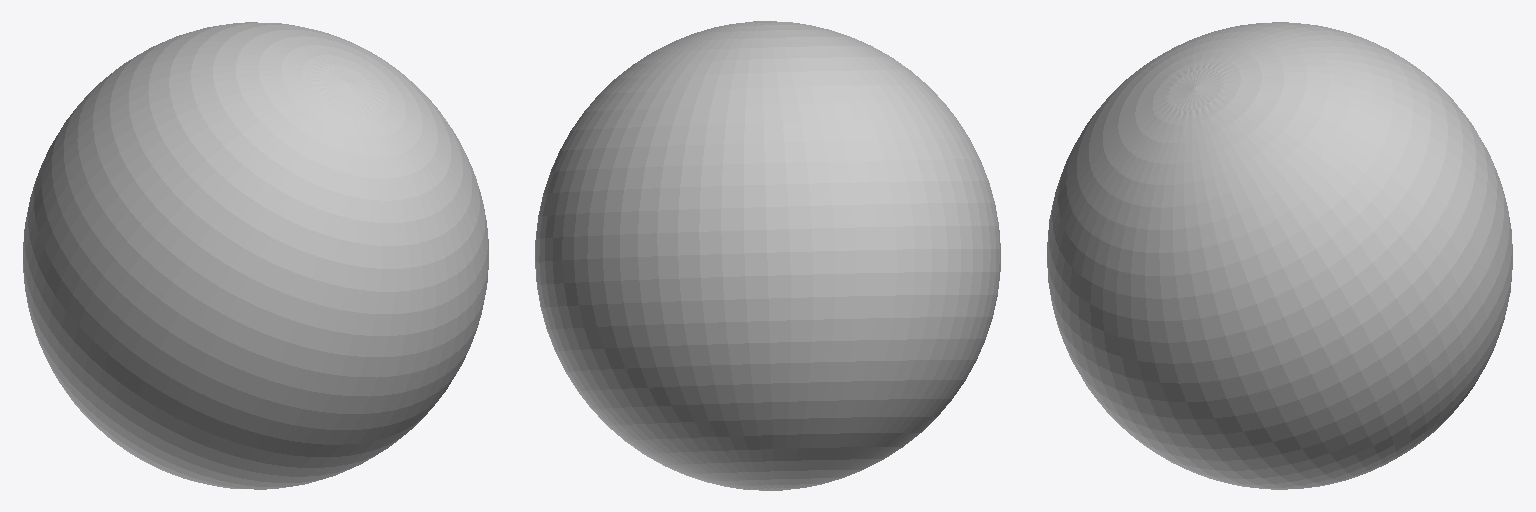
File: earth.obj
The picture shows the model from 3 angles: view 1: azimuth 30°, elevation 25°; view 2: azimuth 150°, elevation 25°; view 3: azimuth 270°, elevation 25°; orthographic projection.
Visible parts, largest first — view 1: earth; view 2: earth; view 3: earth.
Boxes of the visible parts, box(x1,y1,x2,y2) form: earth: box(23, 22, 488, 489); earth: box(535, 21, 1000, 490); earth: box(1047, 22, 1512, 489).
Size of the model in its own units: 19.73 by 19.83 by 19.76.